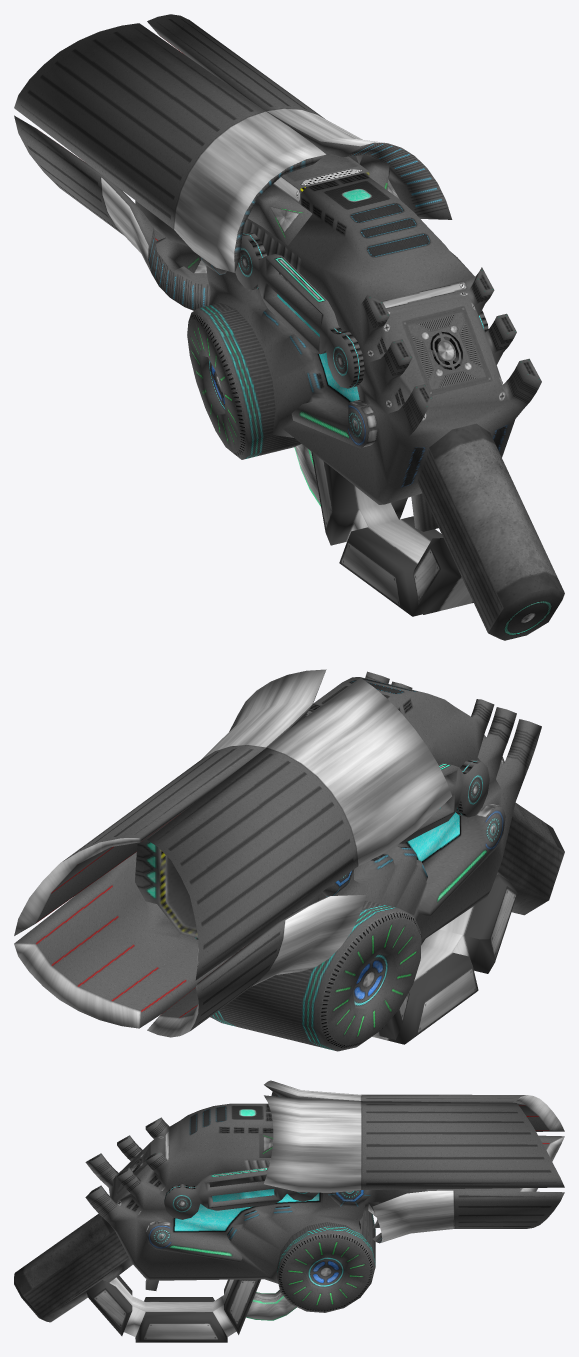
File: plasma_gun.fbx
3 renders of one model, top to bottom at view 1: azimuth 30°, elevation 25°; view 2: azimuth 150°, elevation 25°; view 3: azimuth 270°, elevation 25°, orthographic. The views are drawn at different scales.
Visible parts, largest first — view 1: plasma; view 2: plasma; view 3: plasma.
Part boxes in pixels (<box>): plasma: <box>14,14,564,640</box>; plasma: <box>14,669,564,1051</box>; plasma: <box>14,1080,564,1342</box>.
Bounding box in the file's own units: 1.9 × 3.2 × 6.59.
